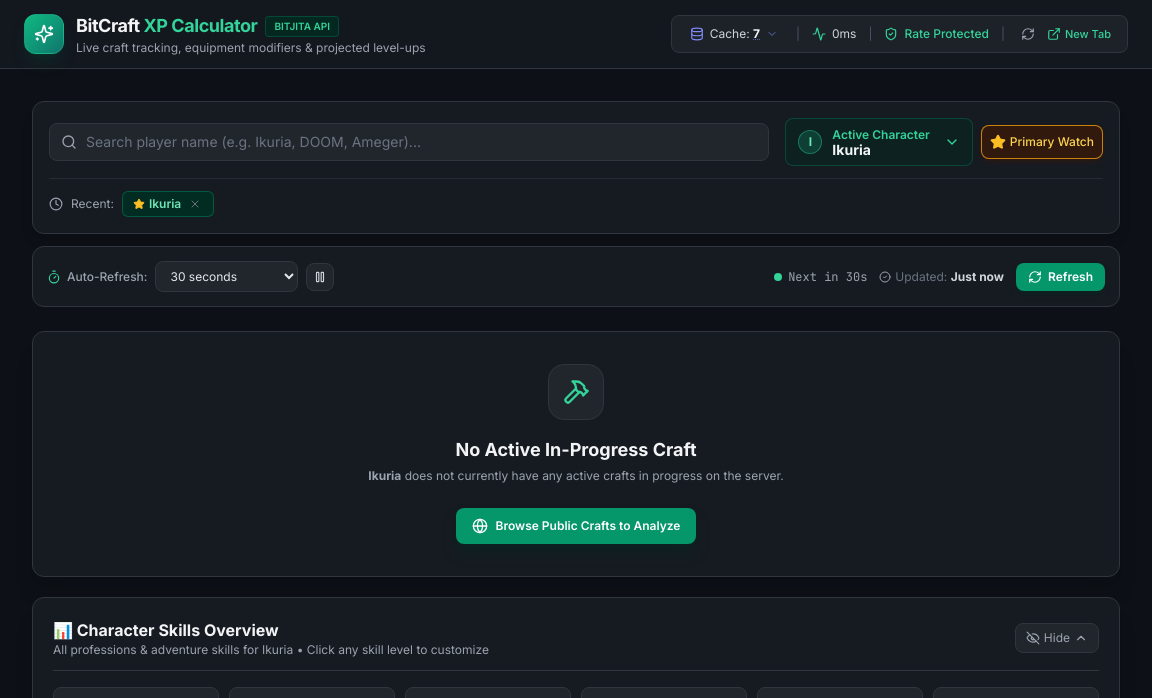
Scenario: Public Craft Analysis vs Verified Helping Lifecycle › shows the Helping marker only when the player is verified as a contributor with progress > 0
Click the button "Browse Public Crafts to Analyze" at {"x": 576, "y": 526}, box [456, 508, 696, 544]
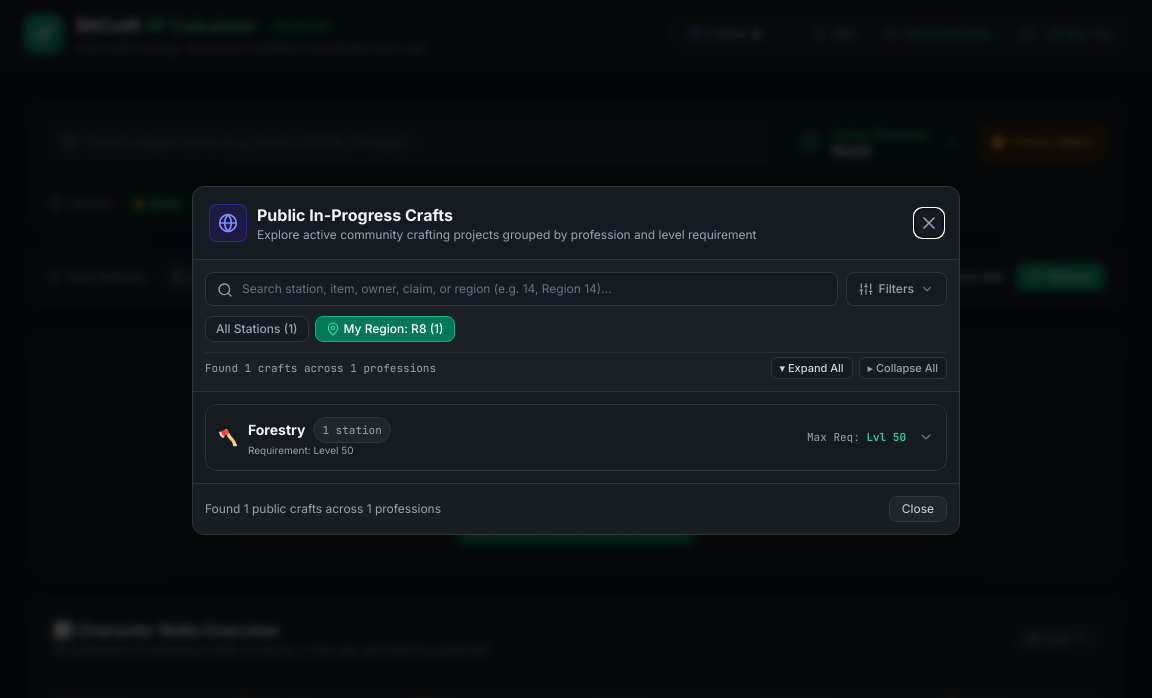
Click the button "🪓 Forestry 1 station Requirement: Level 50 Max Req: Lvl 50" at {"x": 277, "y": 429}, box [206, 404, 946, 470]
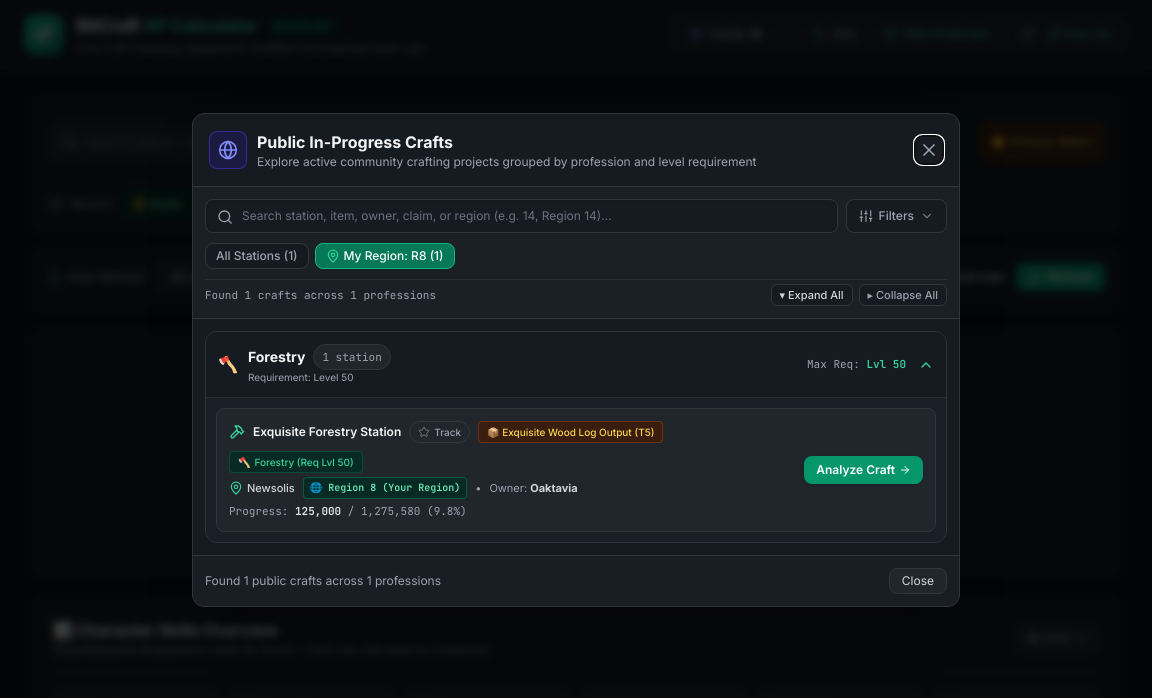
Click the button "Analyze Craft" at {"x": 864, "y": 470}, box [804, 456, 923, 484]
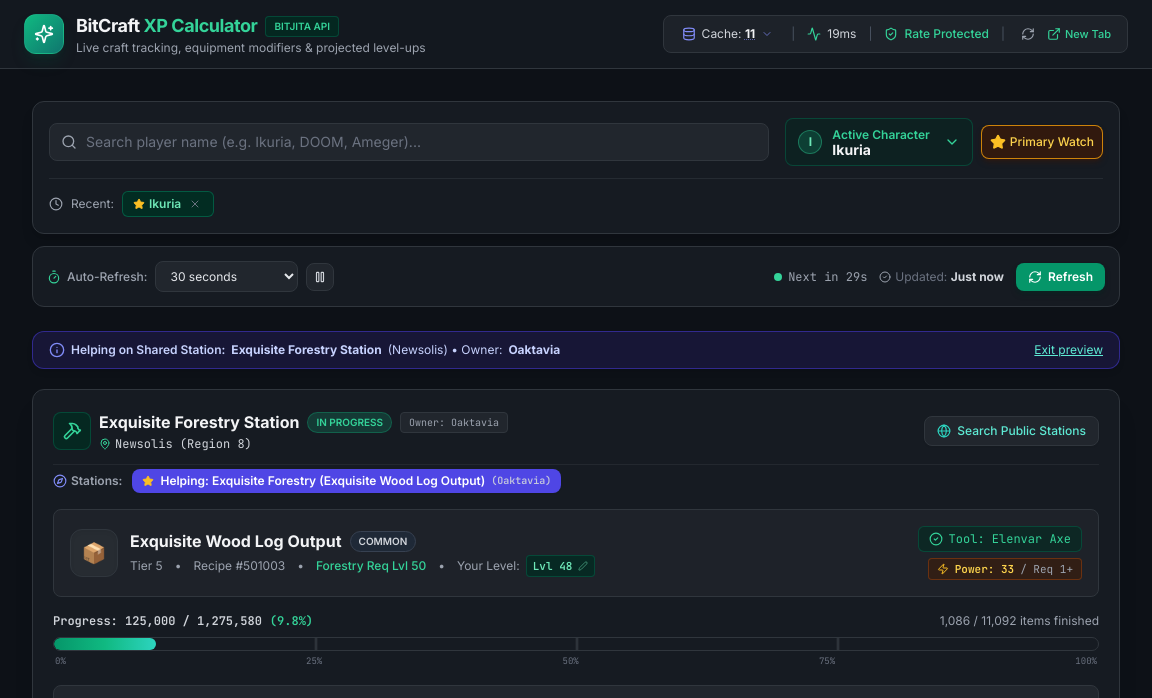
Check: the text "Helping on Shared Station" is shown, box [71, 342, 225, 357]
Check: the text "Helping: Exquisite Forestry" is shown, box [160, 473, 485, 489]
